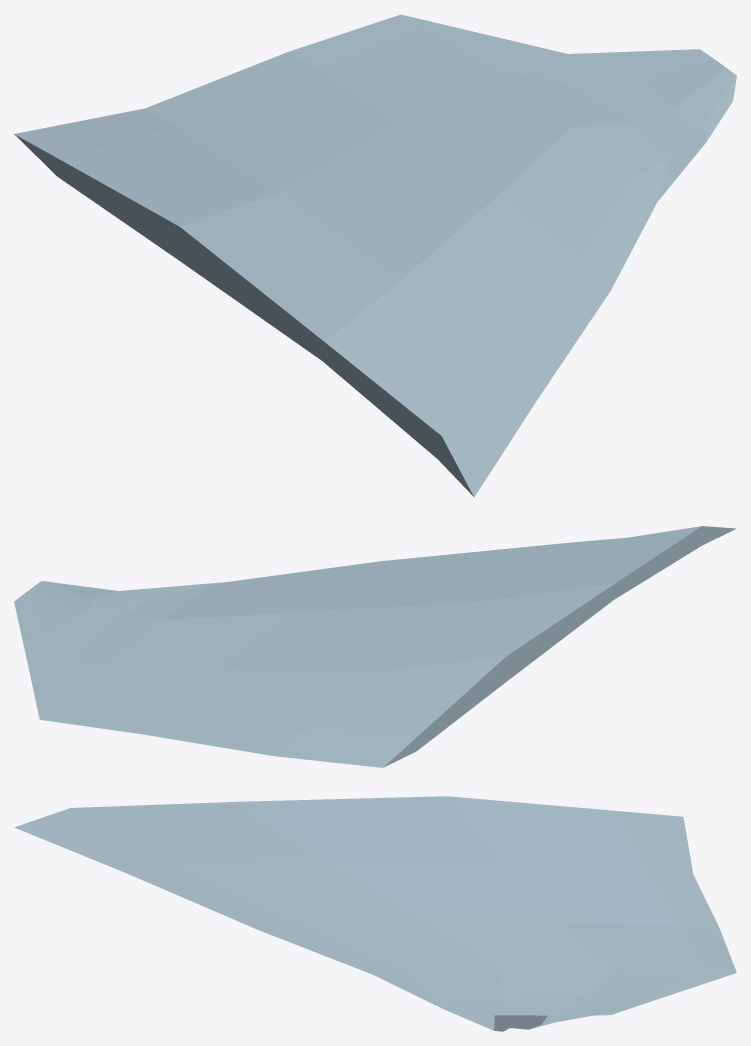
Rendered from su33d_stab_fold_left.glb.
3 renders of one model, top to bottom at view 1: azimuth 30°, elevation 25°; view 2: azimuth 150°, elevation 25°; view 3: azimuth 270°, elevation 25°, orthographic. The views are drawn at different scales.
Parts seen in each view (by area): view 1: 0_StabFoldLeft; view 2: 0_StabFoldLeft; view 3: 0_StabFoldLeft.
Part boxes in pixels (x1=…): 0_StabFoldLeft: x1=14, y1=14, x2=736, y2=497; 0_StabFoldLeft: x1=14, y1=526, x2=736, y2=767; 0_StabFoldLeft: x1=14, y1=796, x2=736, y2=1031.
Size of the model in its own units: 2.11 by 0.184 by 3.09.
